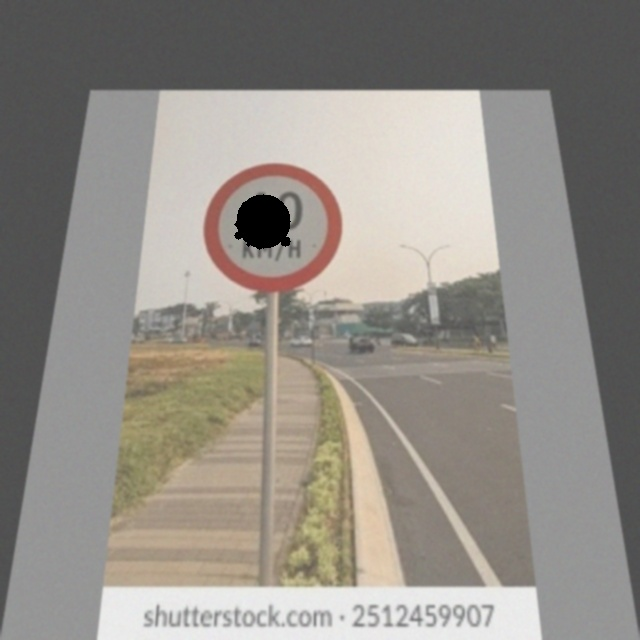Speed_Limit_40: (203, 162, 344, 291)
